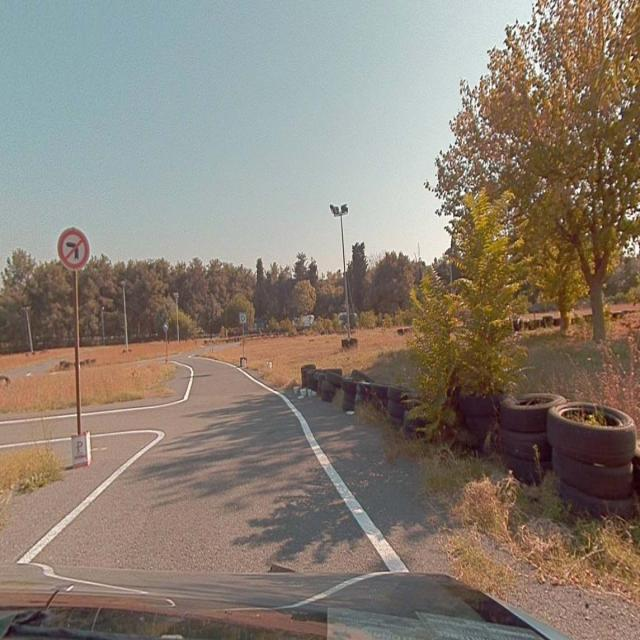durak: (240, 312, 246, 324)
soladonulmez: (58, 227, 90, 270)
